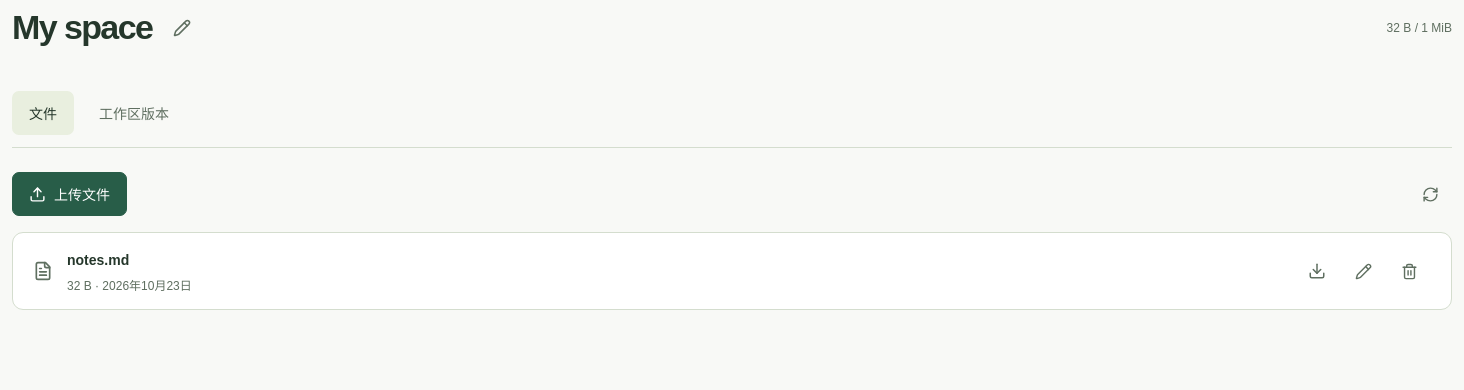
space user journeys › explains an active-response file pin after deletion is refused in zh-CN
Click the button named "删除 notes.md" at {"x": 1409, "y": 271}, box [1387,249,1431,293]
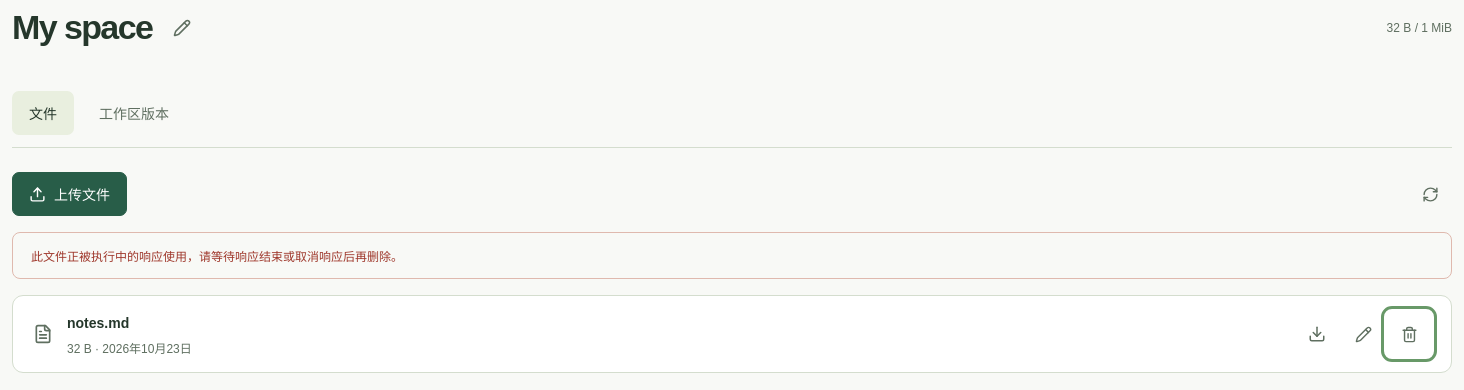
Expected: the message does not show "private dependency detail", [12,232,1452,279]
Expected: the message reads "此文件正被执行中的响应使用，请等待响应结束或取消响应后再删除。", [31,250,403,264]
